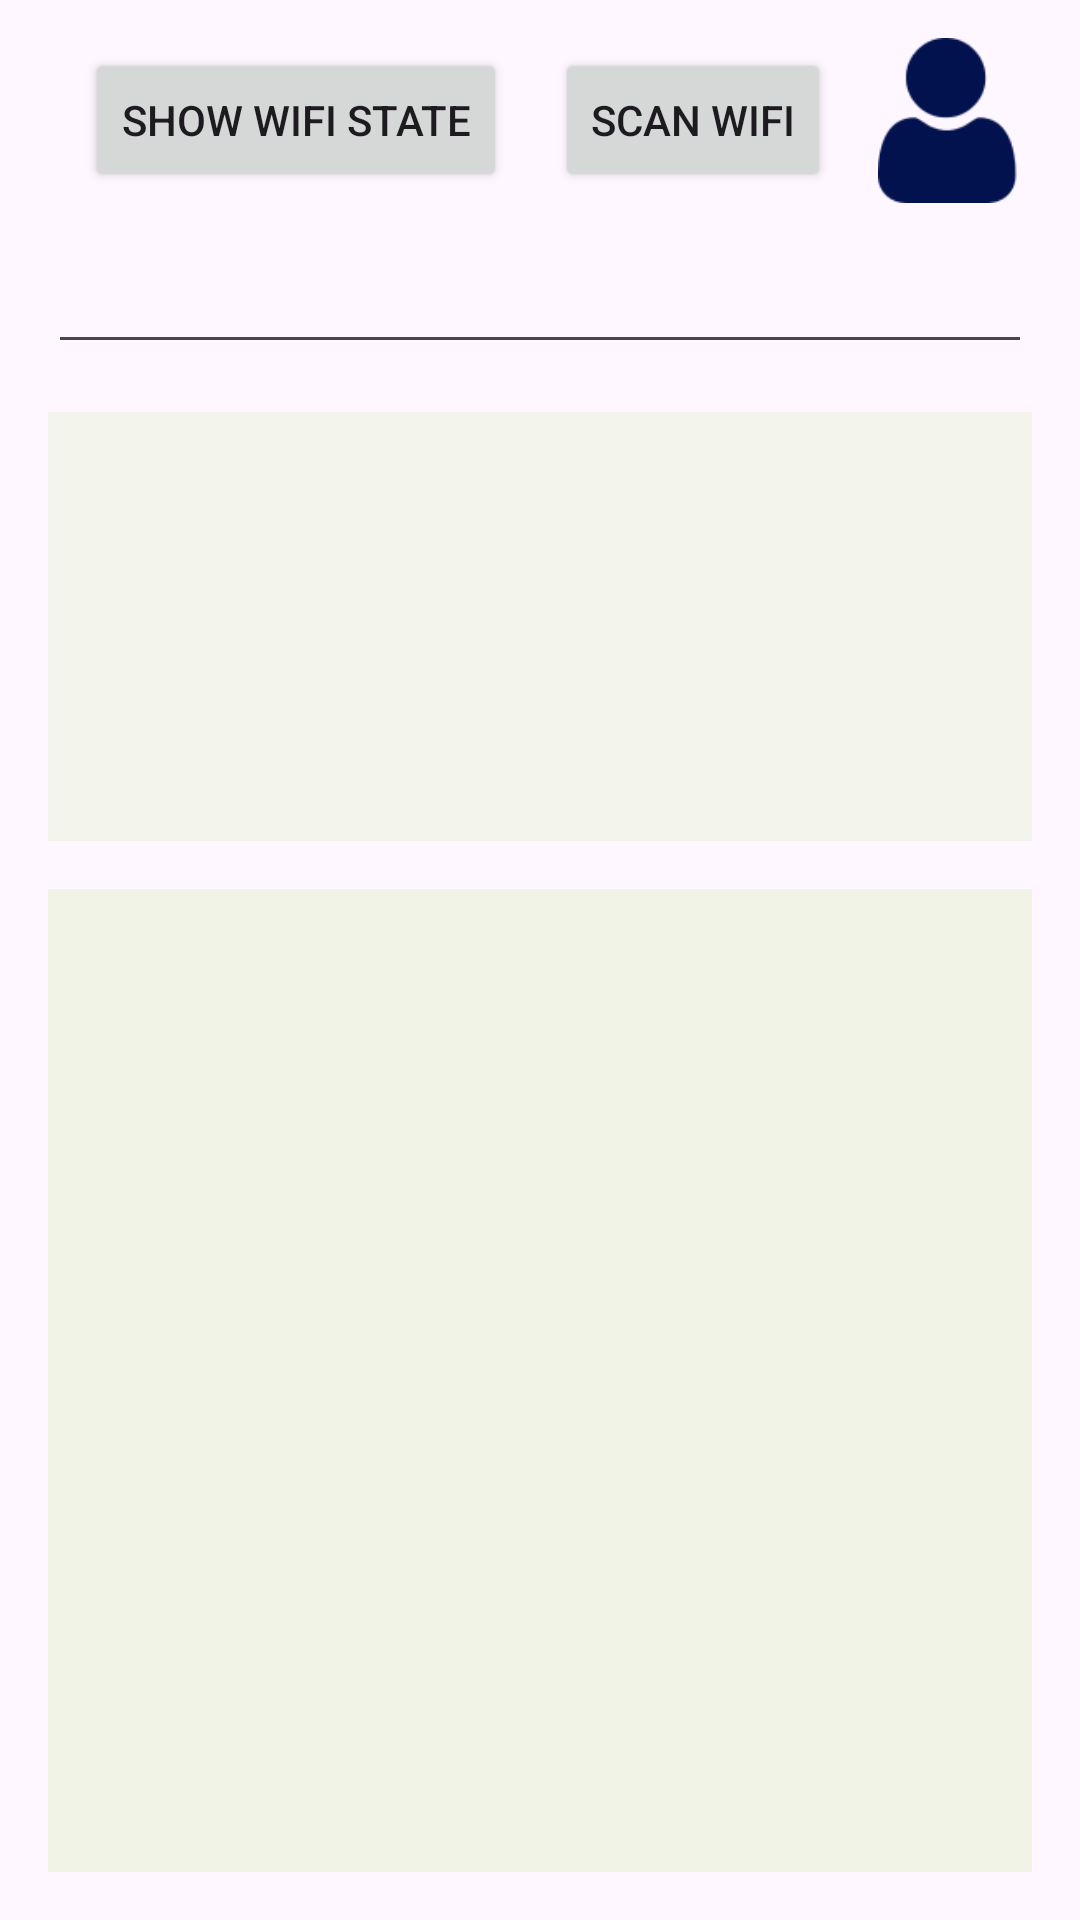

Where icons sit on this 1080w x 1920h app screen, as (x1, y1, x2, y2):
user: (878, 38, 1017, 203)
